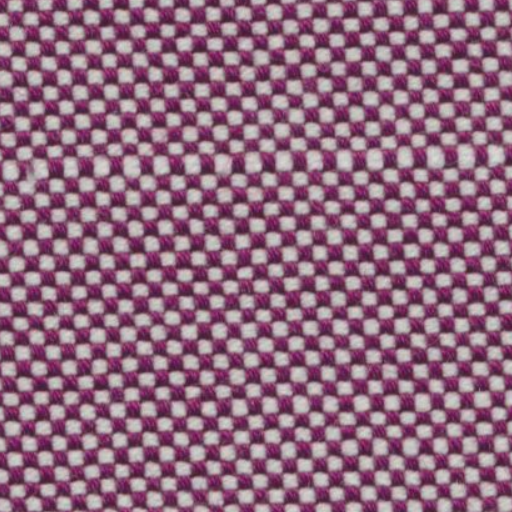TuoSha: (13, 134, 497, 192)
